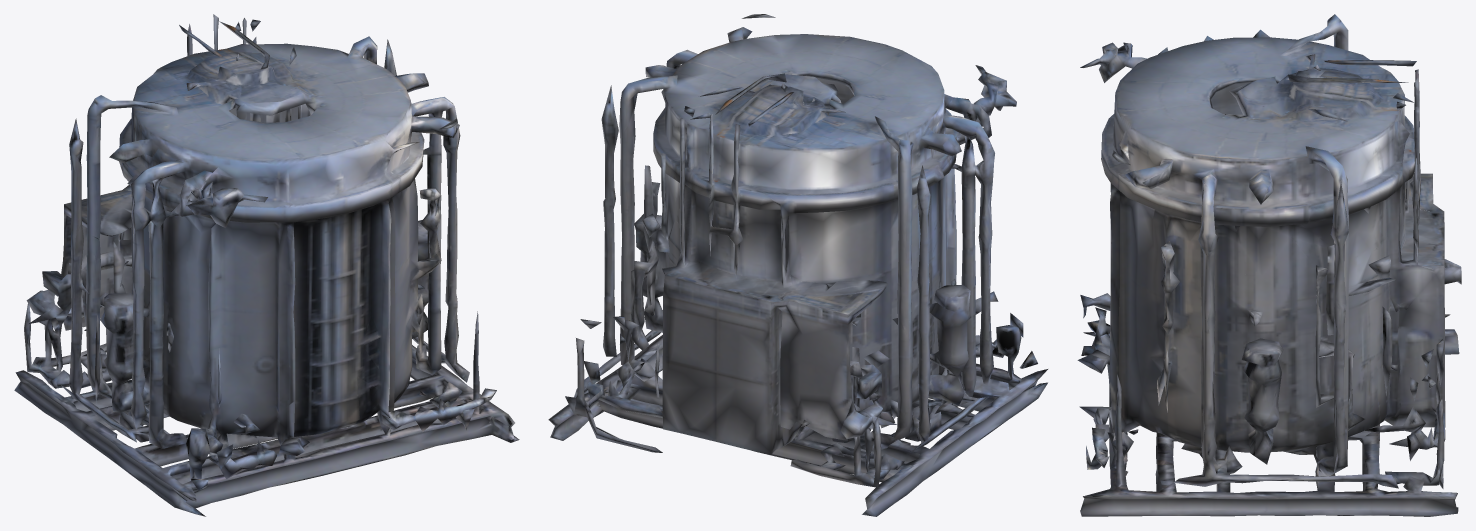
Rendered from Crea_un_módulo_3D_qu_0601010755_texture.fbx.
The picture shows the model from 3 angles, left to right: view 1: azimuth 30°, elevation 25°; view 2: azimuth 150°, elevation 25°; view 3: azimuth 270°, elevation 25°; orthographic projection. The views are drawn at different scales.
Parts seen in each view (by area): view 1: Mesh1; view 2: Mesh1; view 3: Mesh1.
Boxes of the visible parts, left/top/right/bottom form: Mesh1: left=14, top=14, right=519, bottom=516; Mesh1: left=548, top=14, right=1047, bottom=516; Mesh1: left=1077, top=14, right=1461, bottom=516.
Bounding box in the file's own units: 194 × 193 × 183.
1 material, 1 textured.
